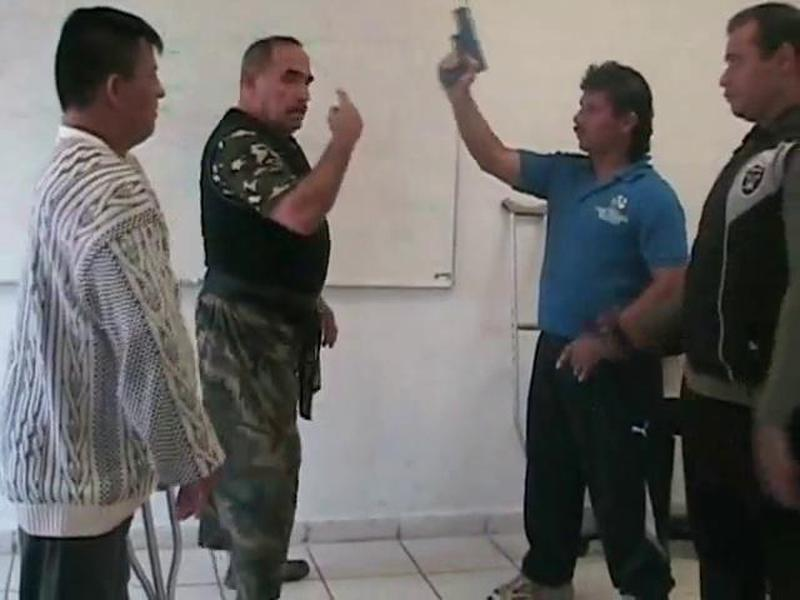Pistola: (424, 1, 496, 101)
